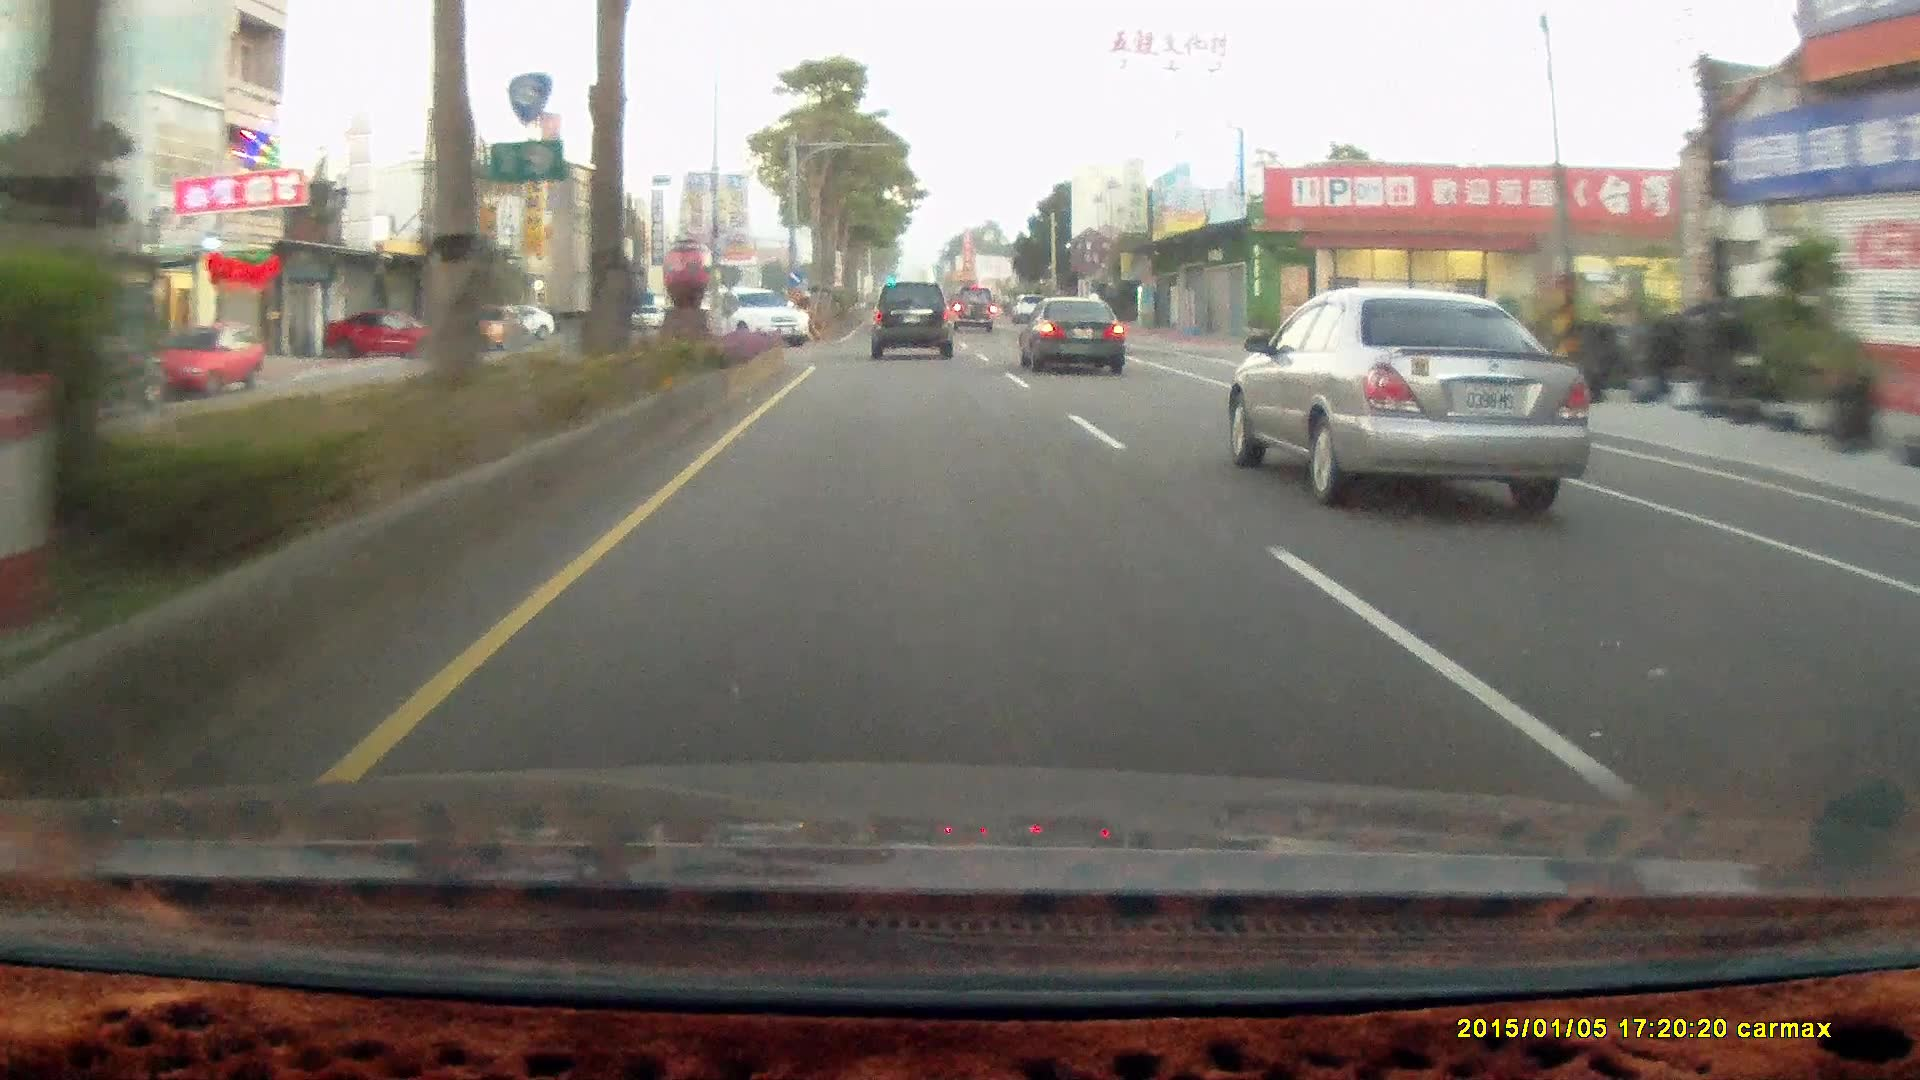vehicle: (1238, 281, 1589, 502), (1015, 289, 1129, 375), (140, 320, 266, 396), (138, 320, 264, 396), (1015, 294, 1124, 372), (316, 305, 467, 359), (320, 303, 458, 357), (872, 280, 960, 363), (707, 285, 811, 348), (869, 280, 952, 357), (723, 282, 812, 345), (949, 284, 997, 334), (949, 284, 997, 332)
